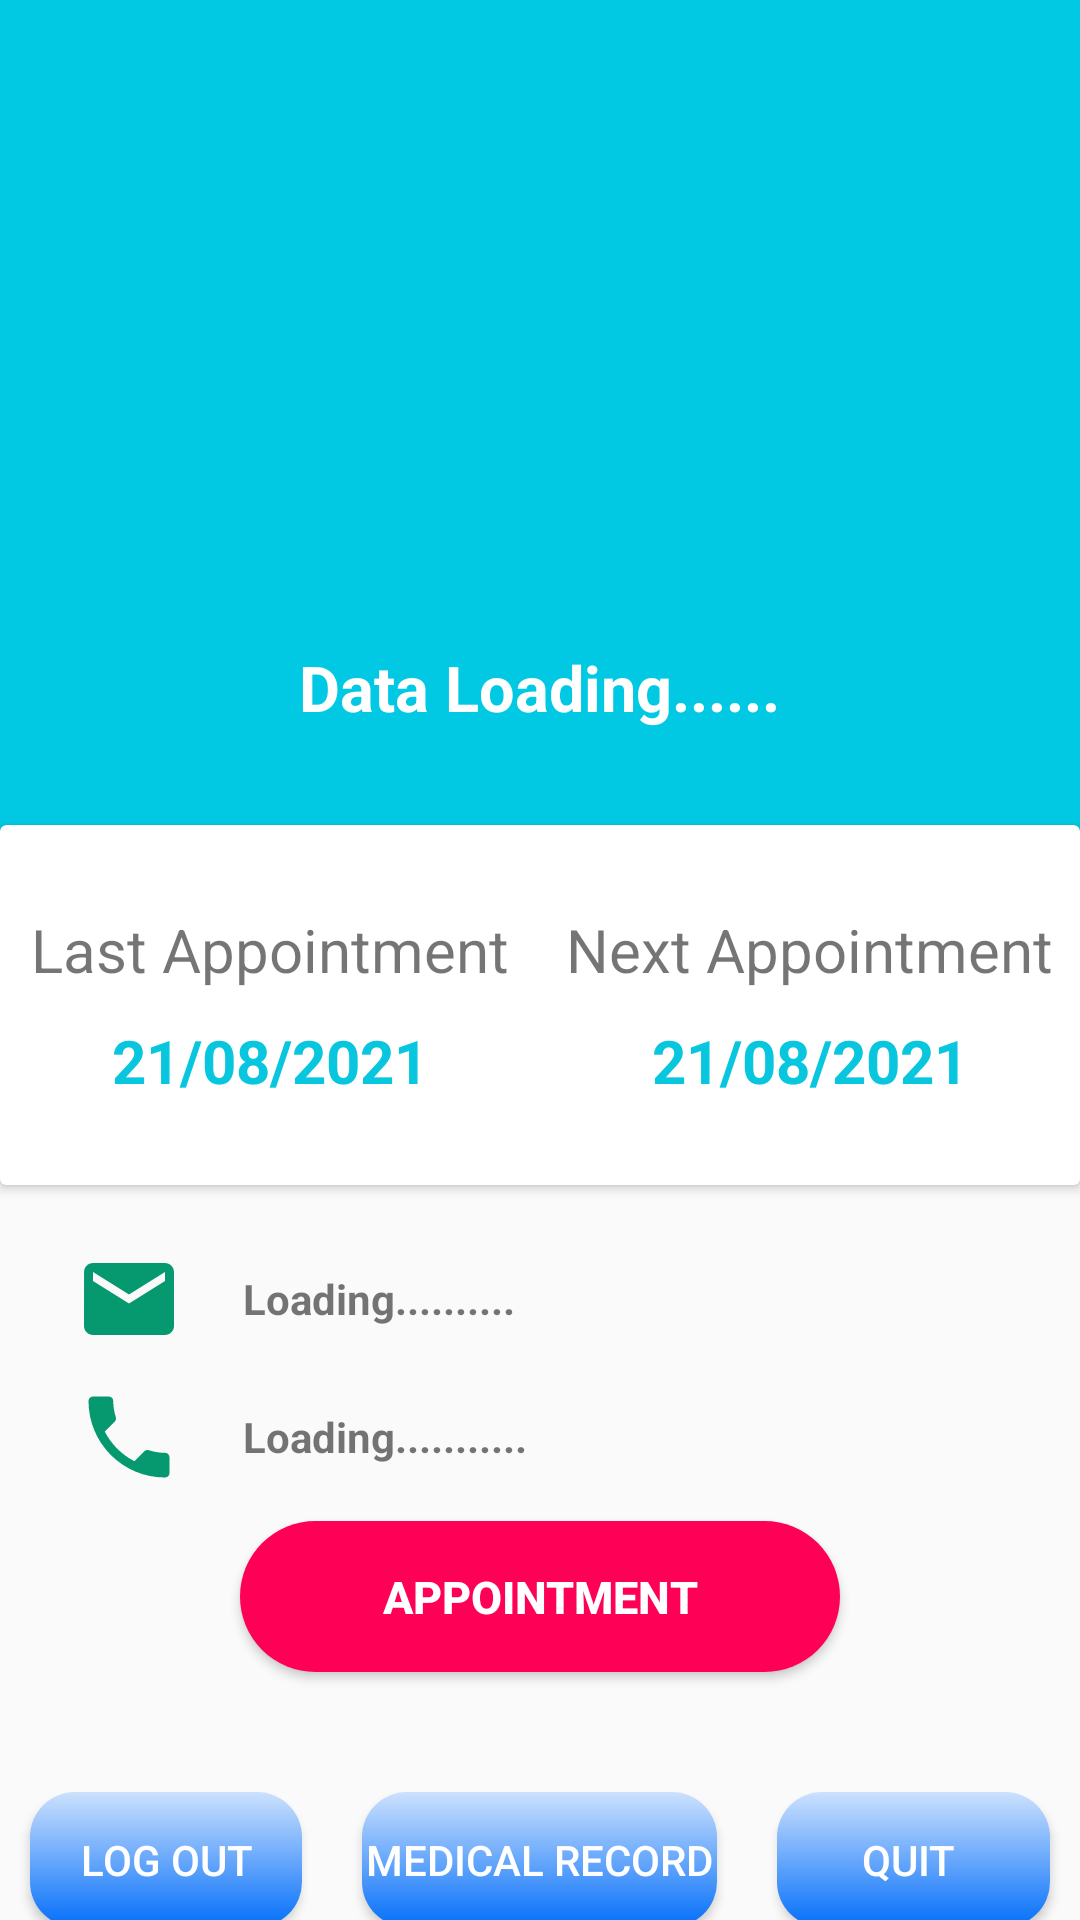

Where icons sit on this 1080 x 1920 app screen, as (x1, y1, x2, y2):
email: (84, 1263, 174, 1335)
phone: (88, 1396, 170, 1478)
